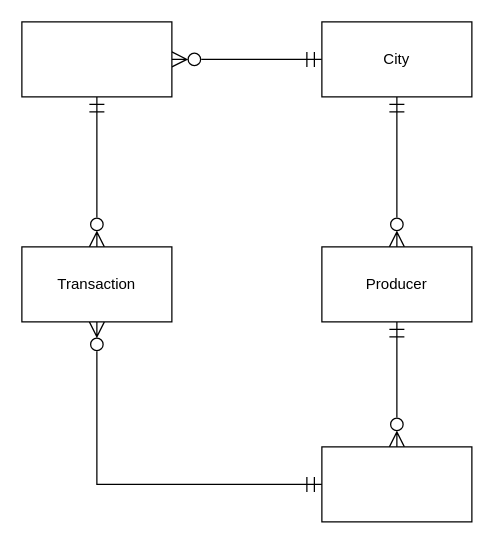
This 494x544 diagram has some shape labels left out. The box of each missing label's shape, as (x1, y1, x2, y2) in pixels:
Item: (321, 446, 472, 522)
Person: (21, 21, 172, 97)
